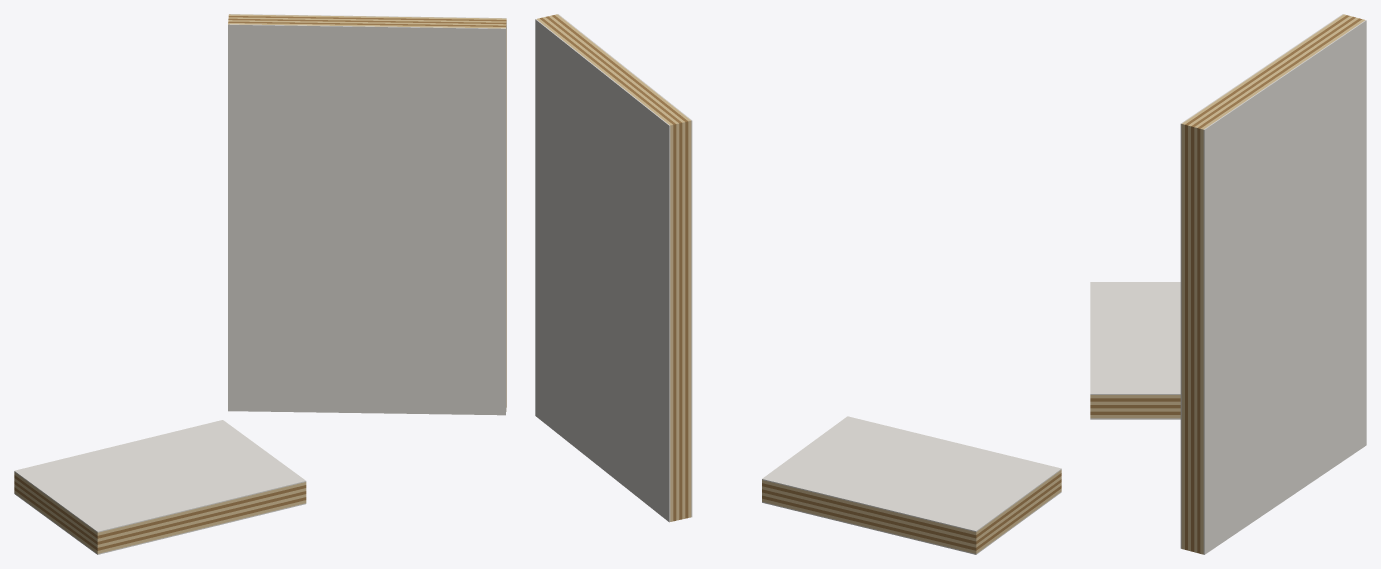
Rendered from multilayer.glb.
The picture shows the model from 3 angles, left to right: view 1: azimuth 30°, elevation 25°; view 2: azimuth 150°, elevation 25°; view 3: azimuth 270°, elevation 25°; orthographic projection. The views are drawn at different scales.
Parts seen in each view (by area): view 1: multilayer; view 2: multilayer; view 3: multilayer.
Part boxes in pixels (bbox=[...]): multilayer: bbox=[14, 14, 506, 554]; multilayer: bbox=[535, 14, 1061, 554]; multilayer: bbox=[1090, 14, 1366, 554].
Bounding box in the file's own units: 0.5744 × 0.46 × 0.271.
